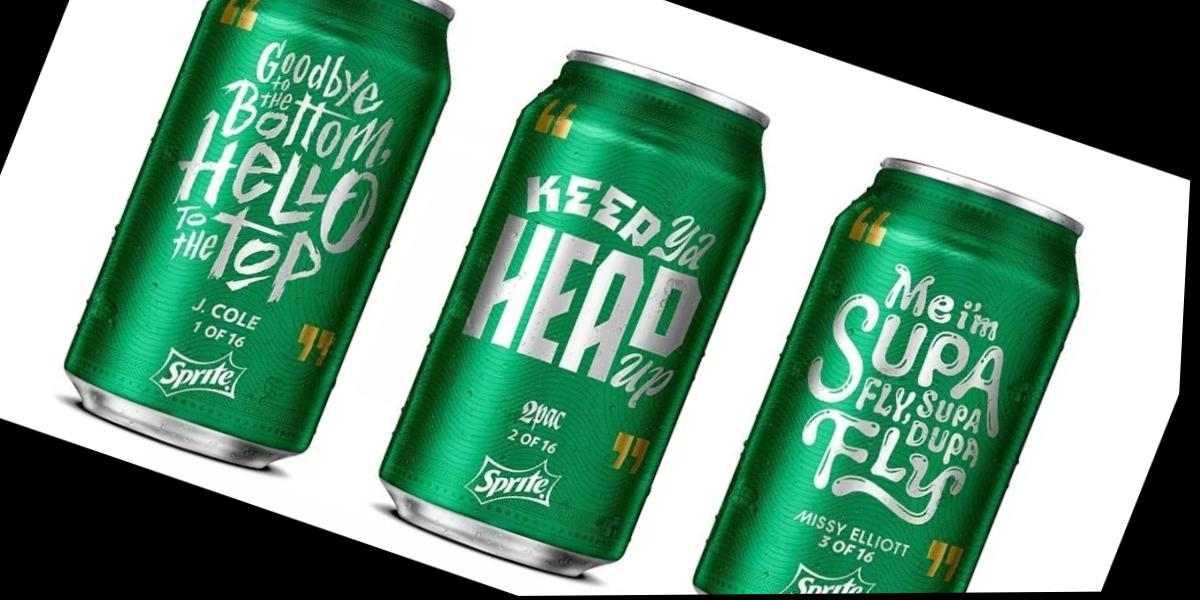metal: (382, 51, 766, 576), (66, 0, 448, 467), (695, 160, 1080, 593)
